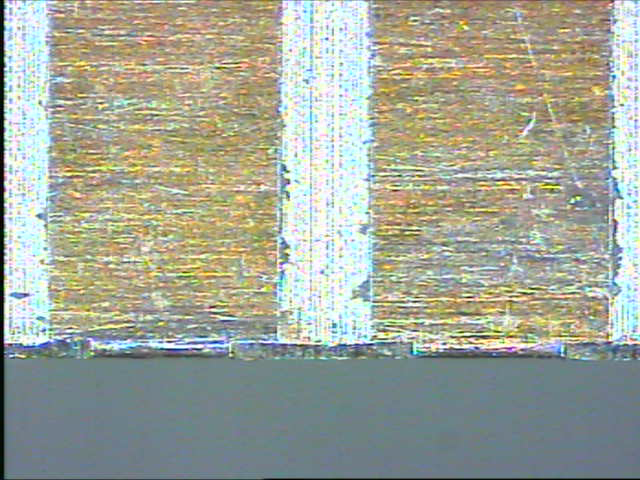line: (274, 1, 375, 348)
